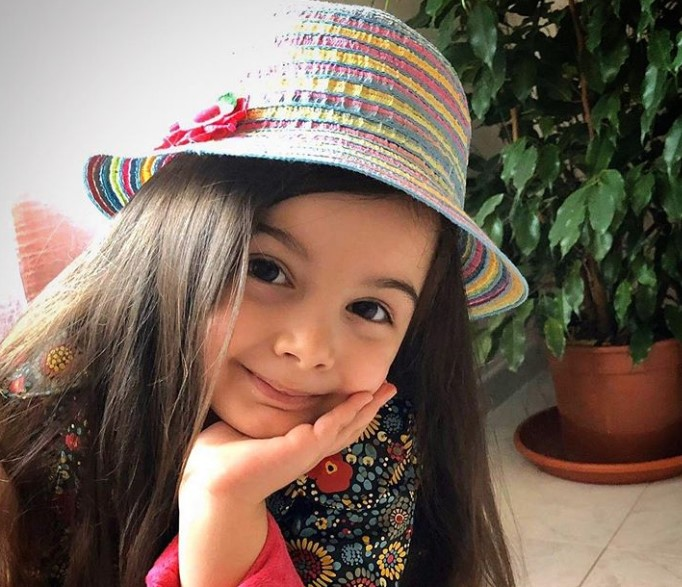face_no_mask: (159, 86, 439, 445)
